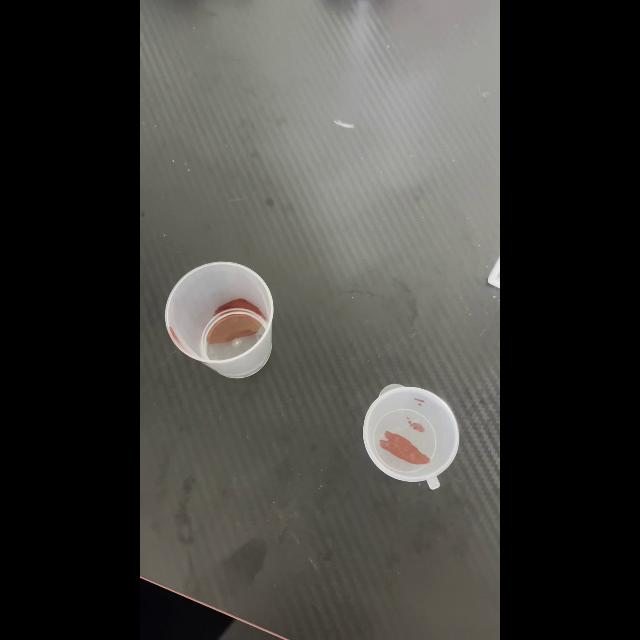dirty: (160, 260, 272, 380), (365, 384, 469, 486)
